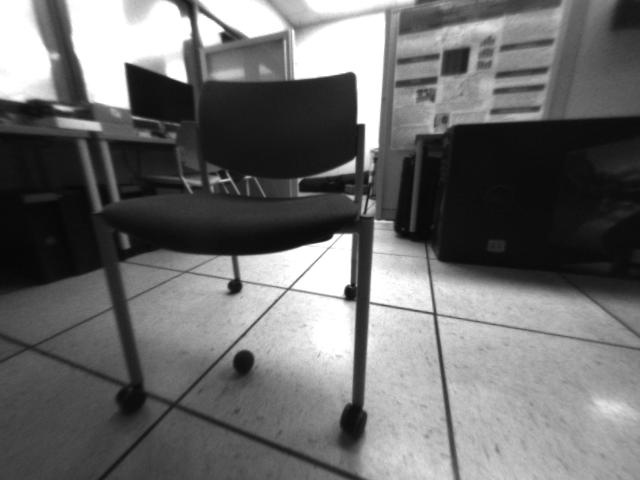dogtoy: (226, 345, 261, 379)
